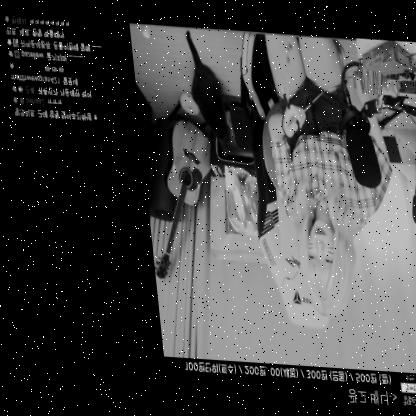streamer: (258, 31, 401, 318)
